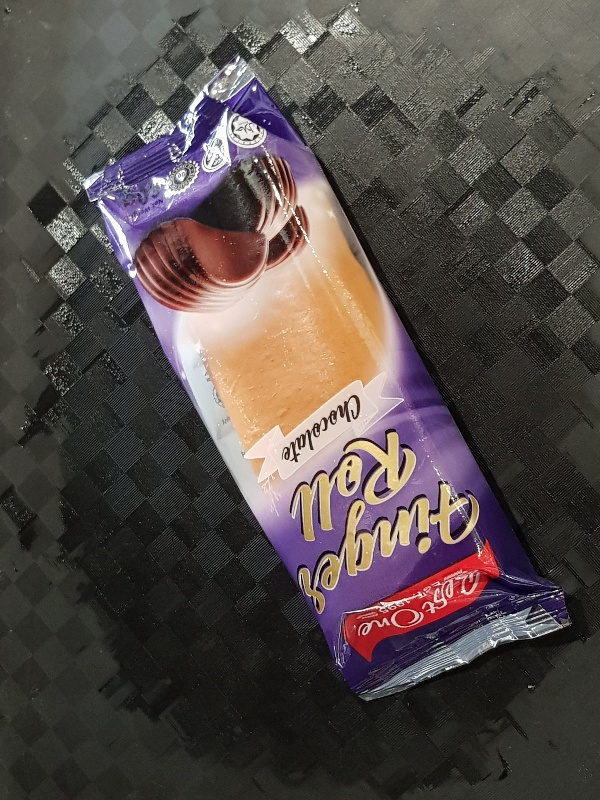Tinges Roll Chocolate: (84, 59, 573, 701)
